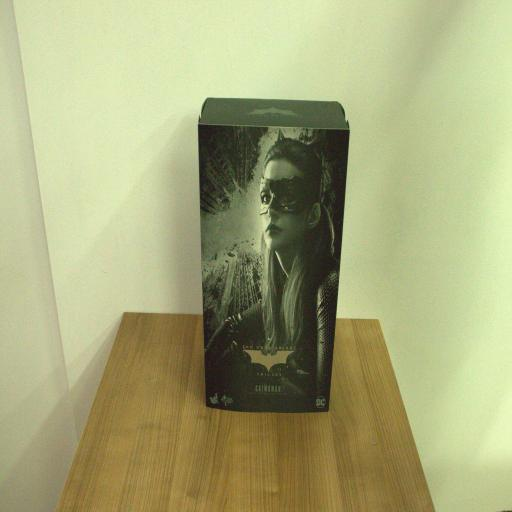catwoman: (198, 97, 350, 412)
